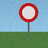sign: (19, 3, 38, 38)
